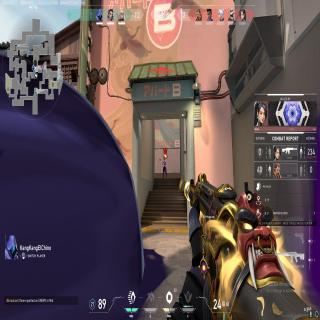ENEMY-BODY: (162, 157, 167, 179)
